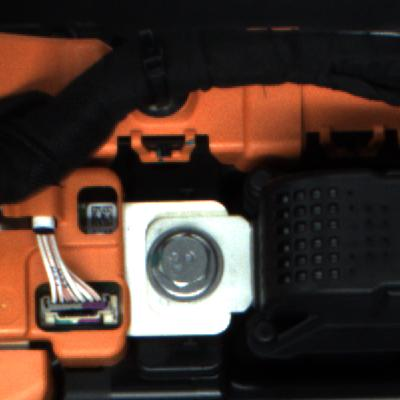nut_b: (140, 217, 242, 308)
